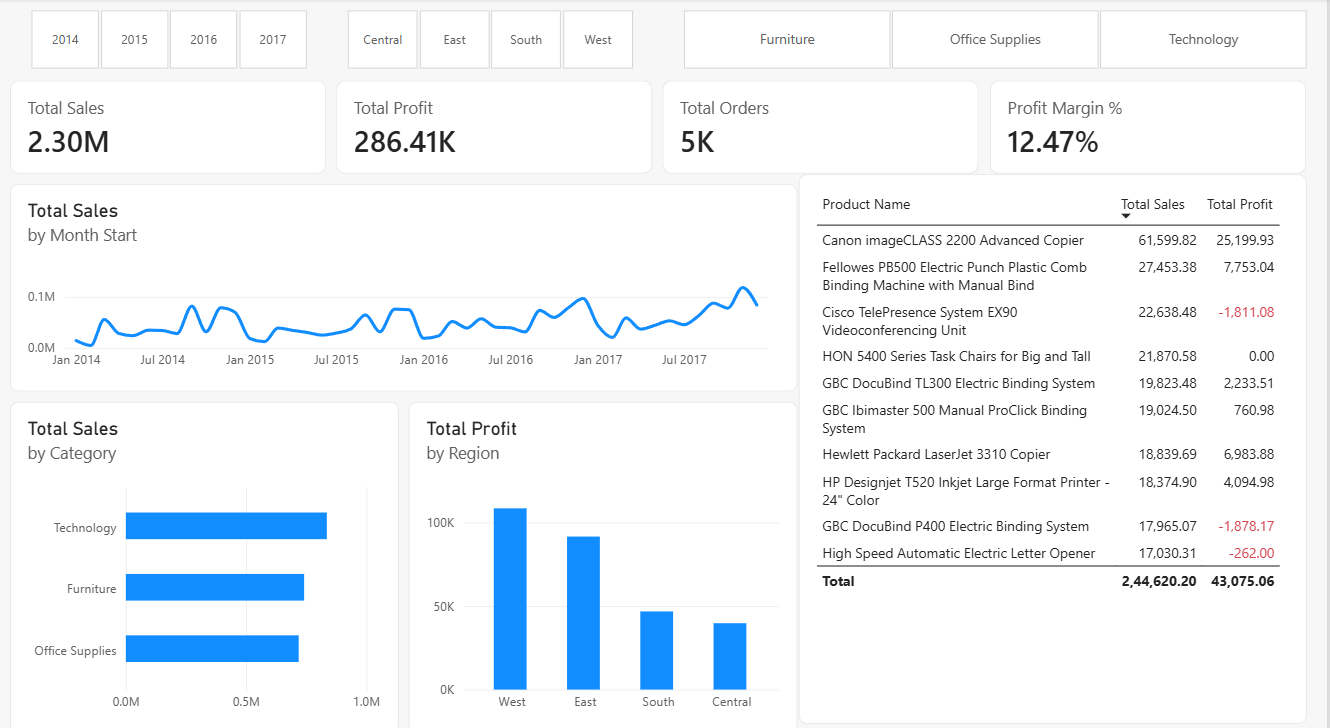

The page's visual inventory and layout, read from the dashboard file:
{"tool":"powerbi","page":{"name":"Dashboard","canvas":[1280,720],"ordinal":0},"visuals":[{"type":"cardVisual","fields":{"Data":["Sales.Total Sales"]},"box":[10,80,305,90],"z":0},{"type":"cardVisual","fields":{"Data":["Sales.Total Profit"]},"box":[325,80,305,90],"z":1000},{"type":"cardVisual","fields":{"Data":["Sales.Total Orders"]},"box":[640,80,305,90],"z":2000},{"type":"cardVisual","fields":{"Data":["Sales.Profit Margin %"]},"box":[955,80,305,90],"z":3000},{"type":"clusteredBarChart","fields":{"Category":["Sales.Category"],"Y":["Sales.Total Sales"]},"box":[10,390,375,320],"z":5000},{"type":"clusteredColumnChart","fields":{"Category":["Sales.Region"],"Y":["Sales.Total Profit"]},"box":[395,390,375,320],"z":6000},{"type":"lineChart","fields":{"Category":["DateTable.Month Start"],"Y":["Sales.Total Sales"]},"box":[10,180,760,200],"z":7000},{"type":"tableEx","fields":{"Values":["Sales.Product Name","Sales.Total Sales","Sales.Total Profit"]},"box":[770.9,170.1,490,530],"z":8000},{"type":"slicer","fields":{"Values":["DateTable.Year"]},"box":[9.7,9.7,305.2,60.3],"z":9000},{"type":"slicer","fields":{"Values":["Sales.Region"]},"box":[314.9,9.7,314.9,60.3],"z":10000},{"type":"slicer","fields":{"Values":["Sales.Category"]},"box":[639.4,9.7,640.6,60.3],"z":11000}]}

Visuals, with their boxes in screenshot pixels (x1, y1, x2, y2), scaled from the page's 1280x720 canvas onto the 1330x728 screenshot:
cardVisual - Sales.Total Sales: (left=10, top=81, right=327, bottom=172)
cardVisual - Sales.Total Profit: (left=338, top=81, right=655, bottom=172)
cardVisual - Sales.Total Orders: (left=665, top=81, right=982, bottom=172)
cardVisual - Sales.Profit Margin %: (left=992, top=81, right=1309, bottom=172)
clusteredBarChart - Sales.Category x Sales.Total Sales: (left=10, top=394, right=400, bottom=718)
clusteredColumnChart - Sales.Region x Sales.Total Profit: (left=410, top=394, right=800, bottom=718)
lineChart - DateTable.Month Start x Sales.Total Sales: (left=10, top=182, right=800, bottom=384)
tableEx - Sales.Product Name x Sales.Total Sales: (left=801, top=172, right=1310, bottom=708)
slicer - DateTable.Year: (left=10, top=10, right=327, bottom=71)
slicer - Sales.Region: (left=327, top=10, right=654, bottom=71)
slicer - Sales.Category: (left=664, top=10, right=1329, bottom=71)
